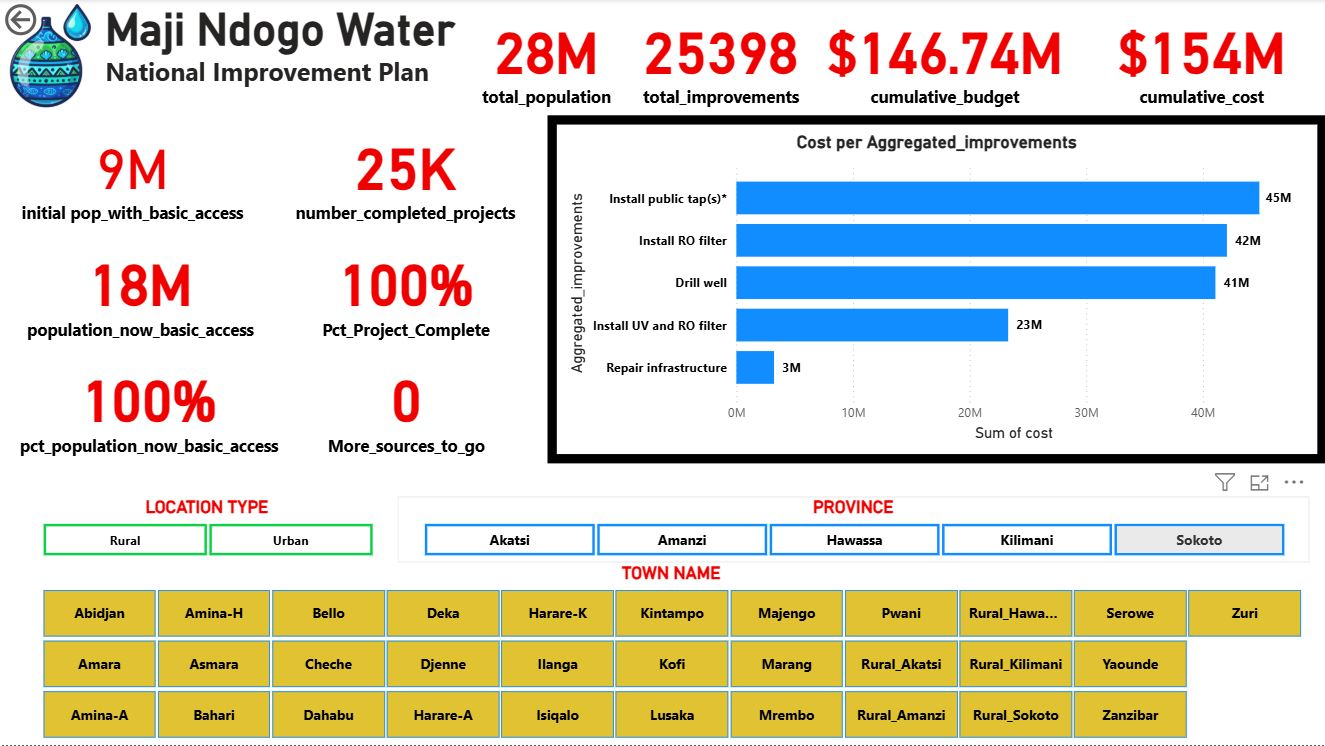

This screenshot's page, from the dashboard's own definition file:
{"tool":"powerbi","page":{"name":"KEY INDICATORS","canvas":[1280,720],"ordinal":1},"visuals":[{"type":"shape","box":[528,112,752,336],"z":0},{"type":"slicer","title":"TOWN NAME","fields":{"Values":["location.town_name"]},"box":[16,544,1264,176],"z":1000},{"type":"card","fields":{"Values":["project_progress.total_improvements"]},"box":[608,0,176,112],"z":2000},{"type":"card","fields":{"Values":["project_progress.number_completed_projects"]},"box":[272,112,240,112],"z":3000},{"type":"card","fields":{"Values":["project_progress.Pct_Project_Complete"]},"box":[304,224,176,112],"z":4000},{"type":"card","fields":{"Values":["project_progress.More_sources_to_go"]},"box":[288,336,208,112],"z":5000},{"type":"card","fields":{"Values":["water_source.total_population"]},"box":[448,0,160,112],"z":6000},{"type":"card","fields":{"Values":["water_source.population_with_basic_access"]},"box":[0,112,256,112],"z":7000},{"type":"card","fields":{"Values":["water_source.pct_population_now_basic_access"]},"box":[0,336,288,112],"z":8000},{"type":"card","fields":{"Values":["water_source.population_now_basic_access"]},"box":[16,224,240,112],"z":9000},{"type":"card","fields":{"Values":["project_progress.Running_budget (cumulative_budget)"]},"box":[784,0,256,112],"z":10000},{"type":"card","fields":{"Values":["project_progress.cumulative_cost"]},"box":[1040,0,240,112],"z":11000},{"type":"actionButton","box":[0,0,100,40],"z":12000},{"type":"slicer","title":"PROVINCE","fields":{"Values":["location.province_name"]},"box":[384,480,880,64],"z":13000},{"type":"slicer","title":"LOCATION TYPE","fields":{"Values":["location.location_type"]},"box":[16,480,368,64],"z":14000},{"type":"barChart","title":" Cost per Aggregated_improvements","fields":{"Category":["project_progress.Aggregated_improvements"],"Y":["Sum(project_progress.cost)"]},"box":[544,128,720,304],"z":15000},{"type":"textbox","box":[96,0,352,112],"z":16000},{"type":"image","box":[0,0,96,112],"z":17000}]}

Visuals, with their boxes in screenshot pixels (x1, y1, x2, y2), scaled from the page's 1280x720 canvas onto the 1325x746 screenshot:
shape: BBox(547, 116, 1324, 464)
"TOWN NAME" slicer: BBox(17, 564, 1324, 745)
card - project_progress.total_improvements: BBox(629, 0, 812, 116)
card - project_progress.number_completed_projects: BBox(282, 116, 530, 232)
card - project_progress.Pct_Project_Complete: BBox(315, 232, 497, 348)
card - project_progress.More_sources_to_go: BBox(298, 348, 513, 464)
card - water_source.total_population: BBox(464, 0, 629, 116)
card - water_source.population_with_basic_access: BBox(0, 116, 265, 232)
card - water_source.pct_population_now_basic_access: BBox(0, 348, 298, 464)
card - water_source.population_now_basic_access: BBox(17, 232, 265, 348)
card - project_progress.Running_budget (cumulative_budget): BBox(812, 0, 1077, 116)
card - project_progress.cumulative_cost: BBox(1077, 0, 1324, 116)
actionButton: BBox(0, 0, 104, 41)
"PROVINCE" slicer: BBox(398, 497, 1308, 564)
"LOCATION TYPE" slicer: BBox(17, 497, 398, 564)
" Cost per Aggregated_improvements" barChart: BBox(563, 133, 1308, 448)
textbox: BBox(99, 0, 464, 116)
image: BBox(0, 0, 99, 116)
